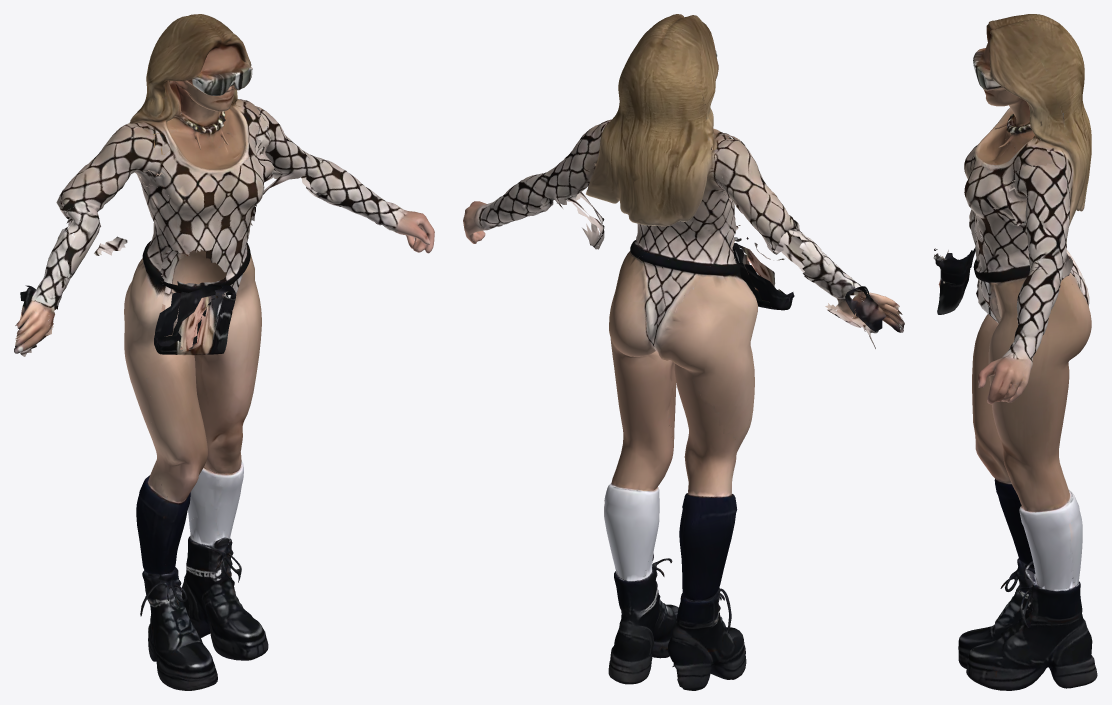
Rendered from skye.fbx.
The picture shows the model from 3 angles, left to right: view 1: azimuth 30°, elevation 25°; view 2: azimuth 150°, elevation 25°; view 3: azimuth 270°, elevation 25°; orthographic projection. The views are drawn at different scales.
Visible parts, largest first — view 1: model; view 2: model; view 3: model.
Boxes of the visible parts, x1,y1,x2,y2 form: model: (14,14,434,690); model: (463,14,904,690); model: (933,14,1097,690).
Size of the model in its own units: 1.34 by 1.94 by 0.4333.
1 material, 1 textured.
